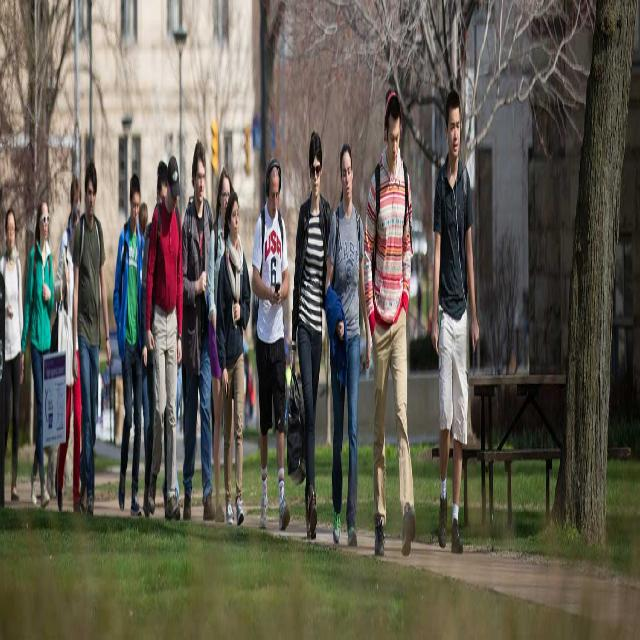body: (362, 85, 417, 561), (429, 85, 481, 562), (323, 137, 371, 552), (286, 130, 333, 544), (250, 152, 291, 533), (71, 153, 112, 520), (146, 152, 185, 522), (180, 136, 216, 524), (214, 187, 252, 528), (111, 170, 148, 520), (18, 196, 55, 511), (140, 158, 169, 521), (52, 200, 83, 518), (207, 164, 233, 526), (54, 174, 82, 498), (0, 204, 24, 504), (135, 201, 151, 463), (162, 341, 181, 511), (409, 266, 435, 373), (103, 344, 118, 447), (516, 278, 532, 367), (242, 335, 255, 430)
